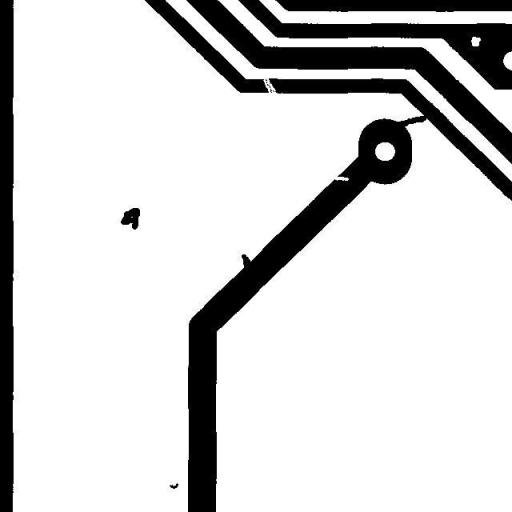copper: (113, 200, 147, 237), (162, 475, 186, 496)
mousebite: (326, 169, 356, 188)
open: (255, 68, 283, 103)
pin-hole: (463, 28, 488, 54)
short: (387, 108, 434, 134)
spur: (234, 246, 258, 276)
